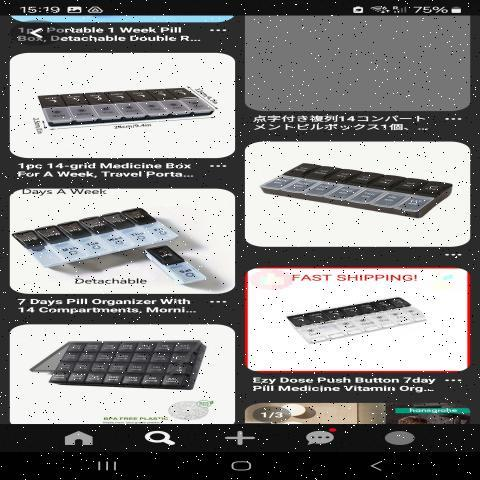PillBox: (259, 151, 463, 237), (31, 326, 211, 402), (26, 70, 223, 135), (12, 204, 184, 268), (274, 296, 449, 344)
